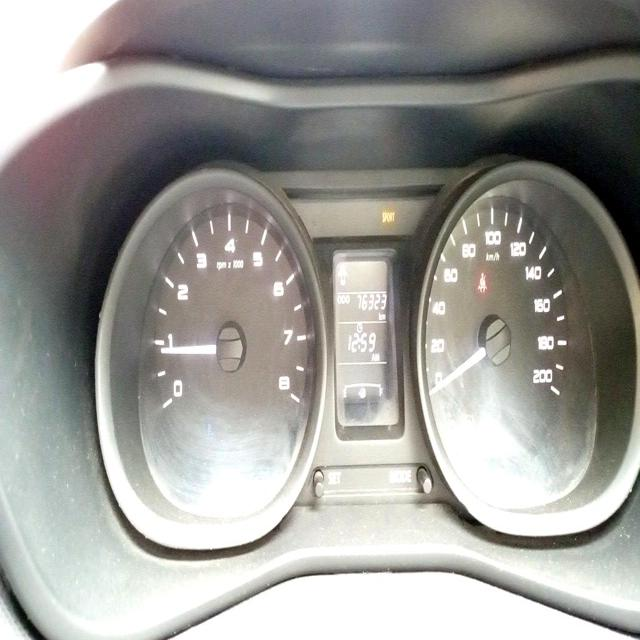odometer: (356, 291, 388, 315)
